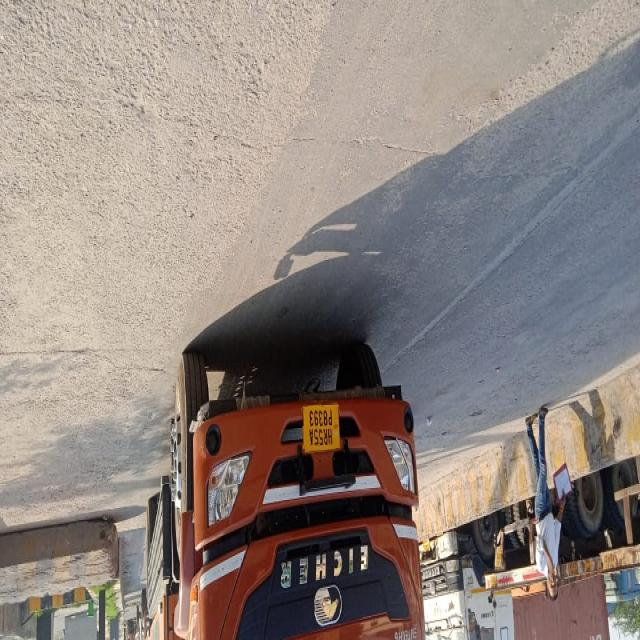License-plate: (302, 403, 339, 449)
